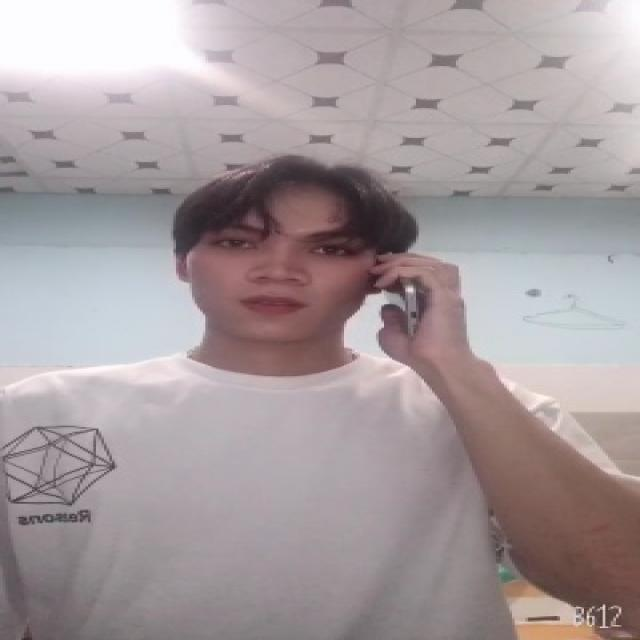Phone: (376, 256, 430, 344)
